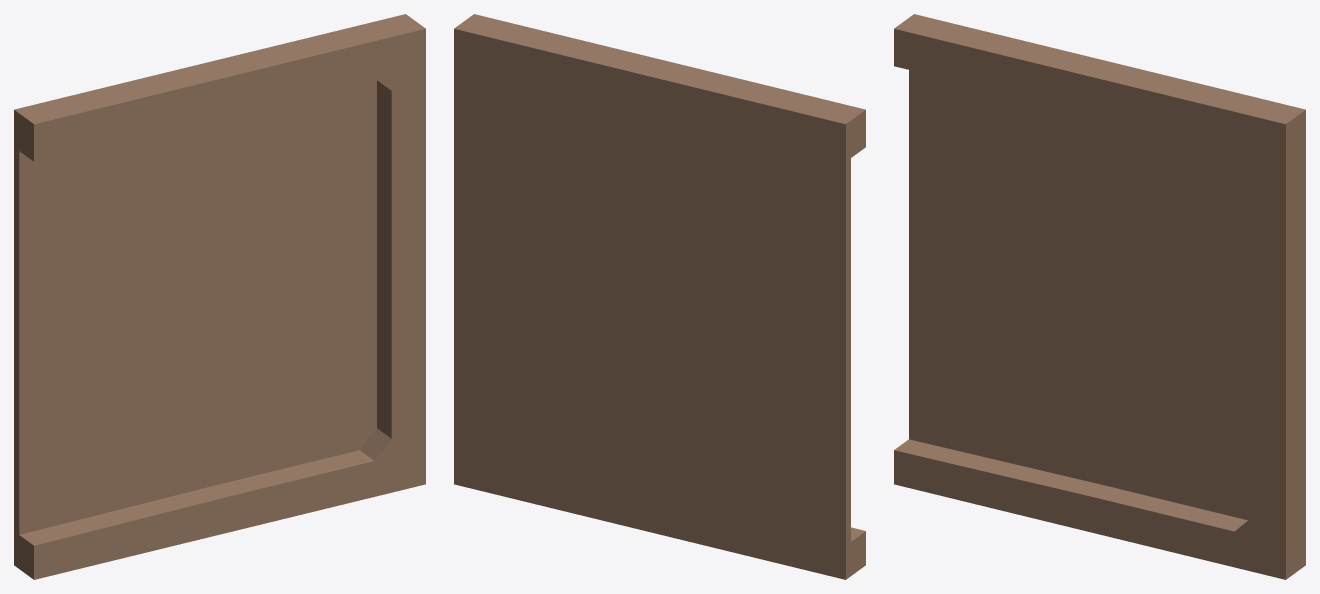
The model's file is ModularWall_006_R.FBX.
The picture shows the model from 3 angles, left to right: view 1: azimuth 30°, elevation 25°; view 2: azimuth 150°, elevation 25°; view 3: azimuth 330°, elevation 25°; orthographic projection.
Parts seen in each view (by area): view 1: ModularWall_006_R; view 2: ModularWall_006_R; view 3: ModularWall_006_R.
Boxes of the visible parts, x1,y1,x2,y2 form: ModularWall_006_R: (14,14,425,579); ModularWall_006_R: (454,14,865,579); ModularWall_006_R: (894,14,1305,579).
Size of the model in its own units: 22.86 by 25.4 by 2.03.
